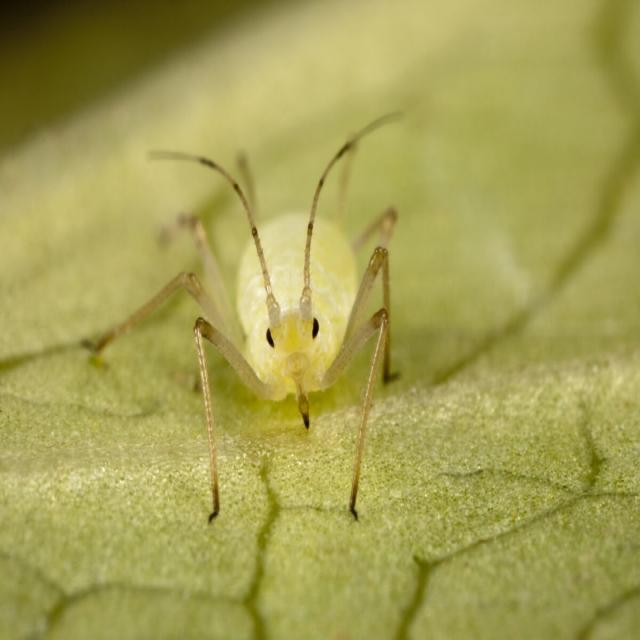Aphid-Grown-: (98, 106, 490, 506)
